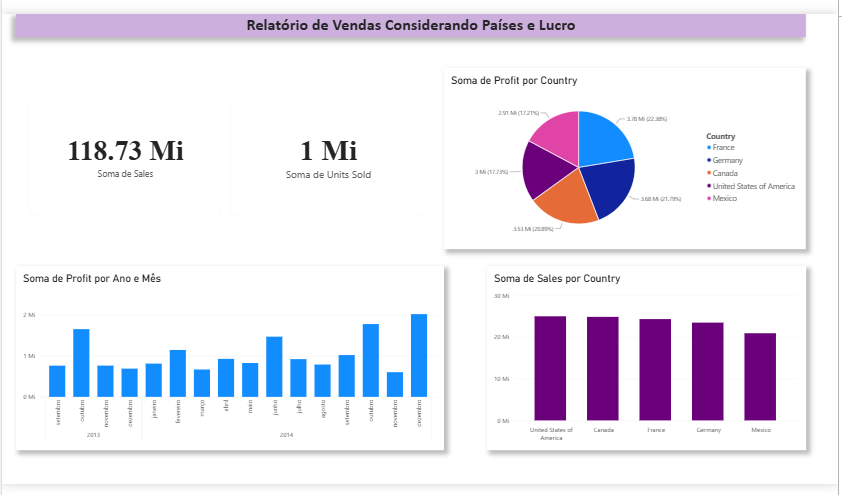

This screenshot's page, from the dashboard's own definition file:
{"tool":"powerbi","page":{"name":"Página 2","canvas":[1920,1080],"ordinal":1},"visuals":[{"type":"textbox","box":[32.2,0,1814.4,52.8],"z":0},{"type":"cardVisual","fields":{"Data":["Sum(financials.Sales)"]},"box":[59.7,195.2,445.6,268.7],"z":1000},{"type":"cardVisual","fields":{"Data":["Sum(financials.Units Sold)"]},"box":[523.6,195.2,450.1,268.7],"z":2000},{"type":"pieChart","title":"Soma de Profit por Country","fields":{"Category":["financials.Country"],"Y":["Sum(financials.Profit)"]},"box":[1015.1,124,831.4,415.7],"z":3000},{"type":"clusteredColumnChart","title":"Soma de Profit por Ano e Mês ","fields":{"Y":["Sum(financials.Profit)"],"Category":["financials.Date.Variation.Hierarquia de datas.Ano","financials.Date.Variation.Hierarquia de datas.Mês"]},"box":[32.2,578.8,983,422.6],"z":4000},{"type":"clusteredColumnChart","title":"Soma de Sales por Country","fields":{"Category":["financials.Country"],"Y":["Sum(financials.Sales)"]},"box":[1113.9,578.8,732.6,422.6],"z":5000}]}

Visuals, with their boxes on the page's 1920x1080 design canvas (x1, y1, x2, y2). These are canvas units, not pixel positions in the 842x495 screenshot, which may show the page scaled, cropped or inside an application window:
textbox: pyautogui.locateOnScreen(32, 0, 1847, 53)
cardVisual - Sum(financials.Sales): pyautogui.locateOnScreen(60, 195, 505, 464)
cardVisual - Sum(financials.Units Sold): pyautogui.locateOnScreen(524, 195, 974, 464)
"Soma de Profit por Country" pieChart: pyautogui.locateOnScreen(1015, 124, 1846, 540)
"Soma de Profit por Ano e Mês " clusteredColumnChart: pyautogui.locateOnScreen(32, 579, 1015, 1001)
"Soma de Sales por Country" clusteredColumnChart: pyautogui.locateOnScreen(1114, 579, 1846, 1001)
